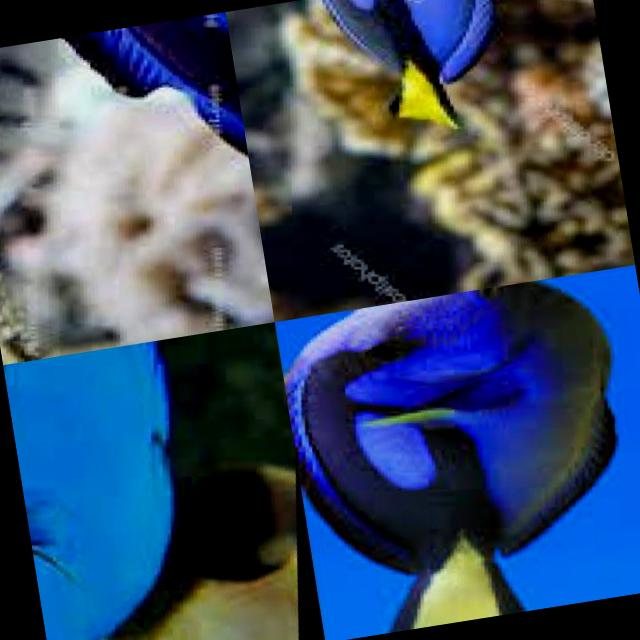BlueTang: (274, 264, 640, 640), (3, 322, 321, 640), (0, 11, 272, 345), (253, 0, 552, 174)
